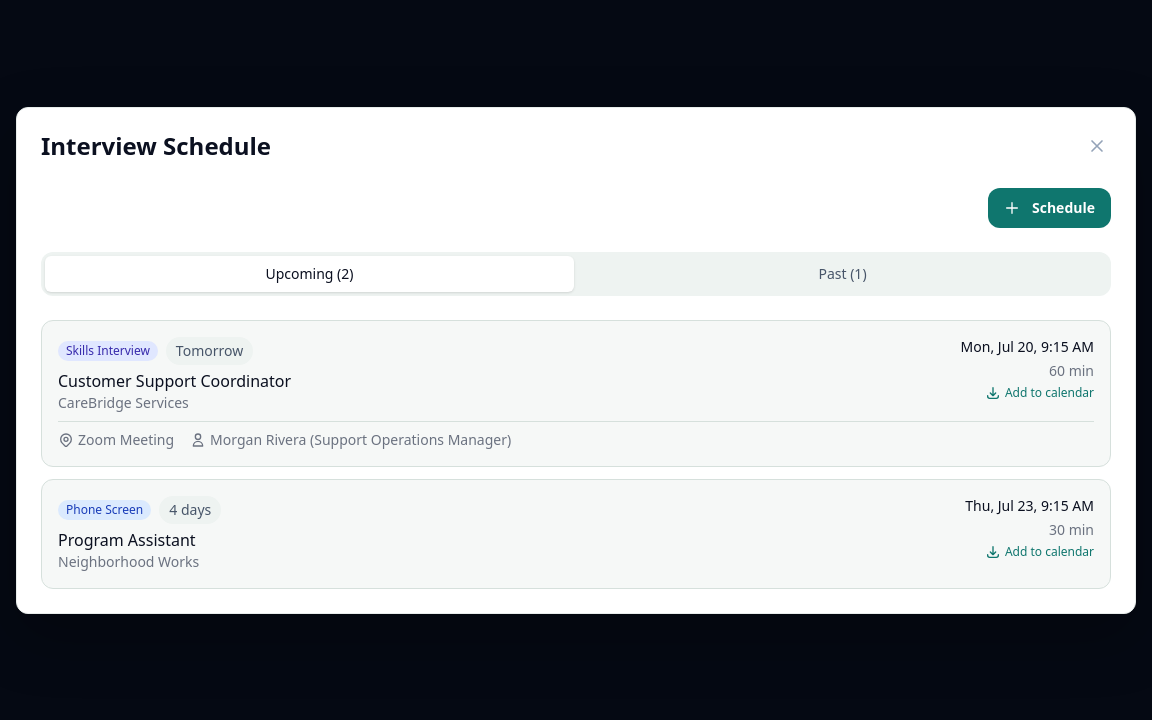
Test: InterviewScheduler › add interview form › opens form when Schedule button is clicked
// Find and click the Schedule button (first one, in header)
Click the button "Schedule": (1050, 208) [988,188,1111,228]
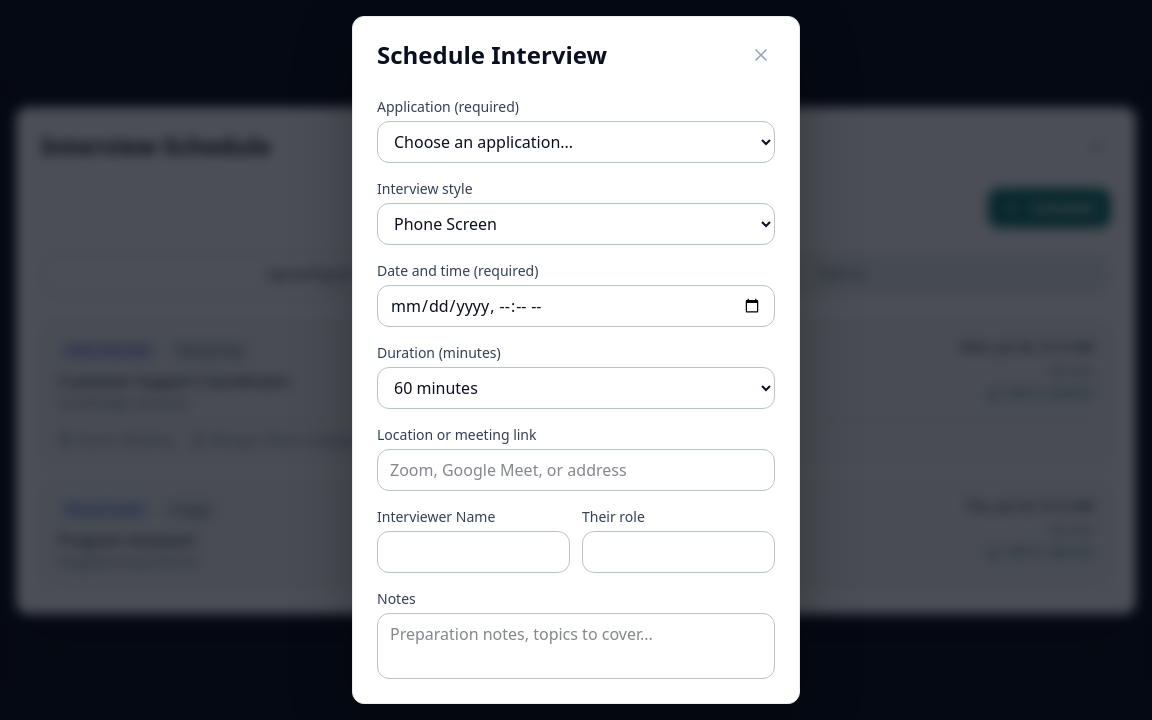
Now the heading "Schedule Interview" is shown, box [377,41,607,70]
